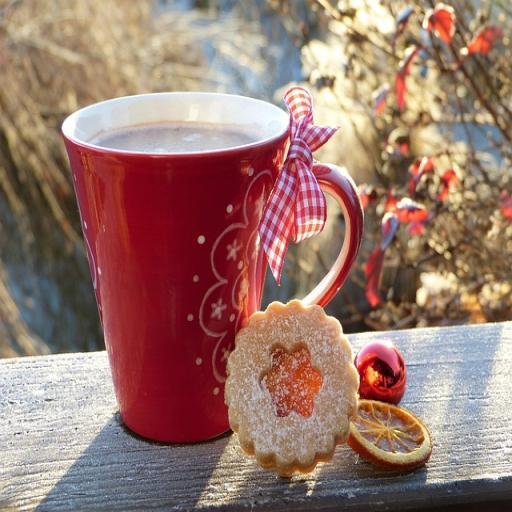phone: (62, 91, 364, 444)
